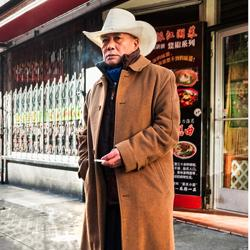cigarro: (95, 156, 111, 166)
fumador: (79, 13, 177, 249)
